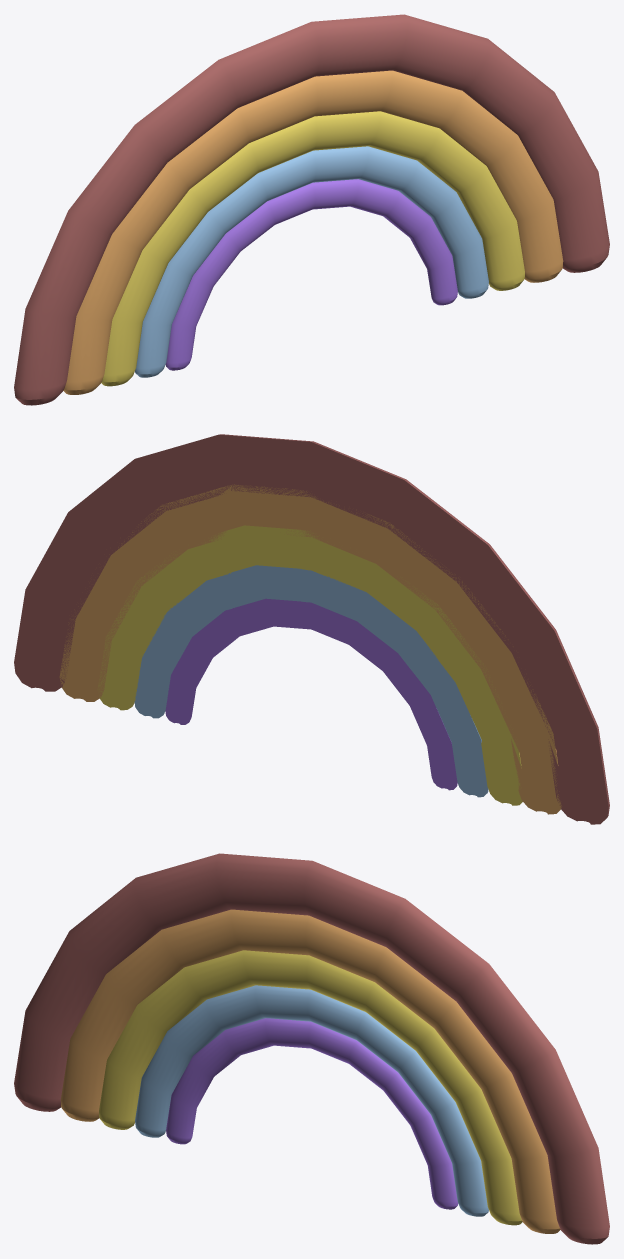
The model's file is Rainbow.fbx.
The picture shows the model from 3 angles, top to bottom: view 1: azimuth 30°, elevation 25°; view 2: azimuth 150°, elevation 25°; view 3: azimuth 330°, elevation 25°; orthographic projection.
Visible parts, largest first — view 1: rainbow1, rainbow2, rainbow3, rainbow4, rainbow5; view 2: rainbow1, rainbow2, rainbow3, rainbow4, rainbow5; view 3: rainbow1, rainbow2, rainbow3, rainbow4, rainbow5.
Boxes of the visible parts, x1,y1,x2,y2 form: rainbow1: (14, 14, 609, 405); rainbow2: (63, 70, 563, 394); rainbow3: (101, 111, 524, 386); rainbow4: (135, 146, 488, 377); rainbow5: (165, 179, 457, 370); rainbow1: (14, 434, 609, 824); rainbow2: (59, 484, 561, 814); rainbow3: (97, 525, 522, 805); rainbow4: (134, 565, 488, 797); rainbow5: (165, 598, 457, 790); rainbow1: (14, 853, 609, 1244); rainbow2: (60, 909, 560, 1233); rainbow3: (99, 950, 522, 1225); rainbow4: (135, 985, 488, 1216); rainbow5: (166, 1018, 458, 1209).
Size of the model in its own units: 23.91 by 12.09 by 0.569.
